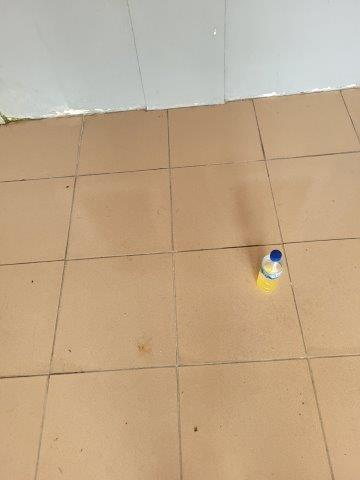botolplastik: (257, 250, 283, 293)
